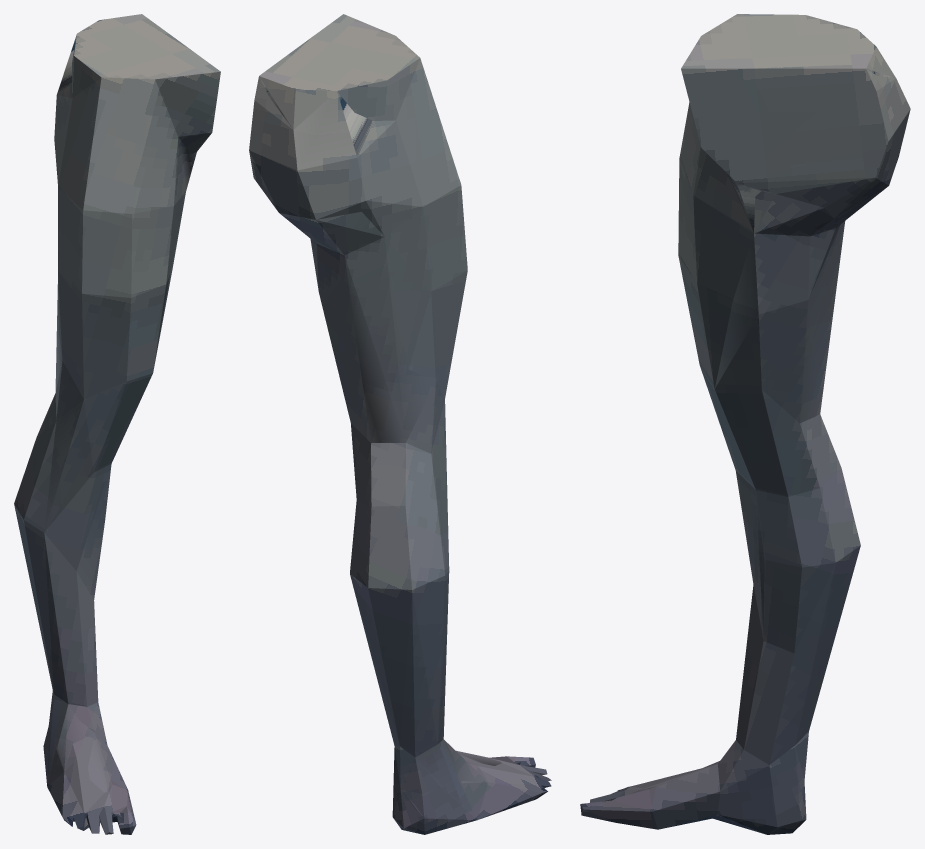
Rendered from item_mannequin_leg_right.glb.
3 renders of one model, left to right at view 1: azimuth 30°, elevation 25°; view 2: azimuth 150°, elevation 25°; view 3: azimuth 270°, elevation 25°, orthographic. The views are drawn at different scales.
Visible parts, largest first — view 1: legs; view 2: legs; view 3: legs.
Boxes of the visible parts, x1,y1,x2,y2 form: legs: (14,14,220,834); legs: (249,14,551,834); legs: (580,14,910,834).
Size of the model in its own units: 0.2897 by 1.12 by 0.4087.
Materials: 1 (1 with a texture image).
